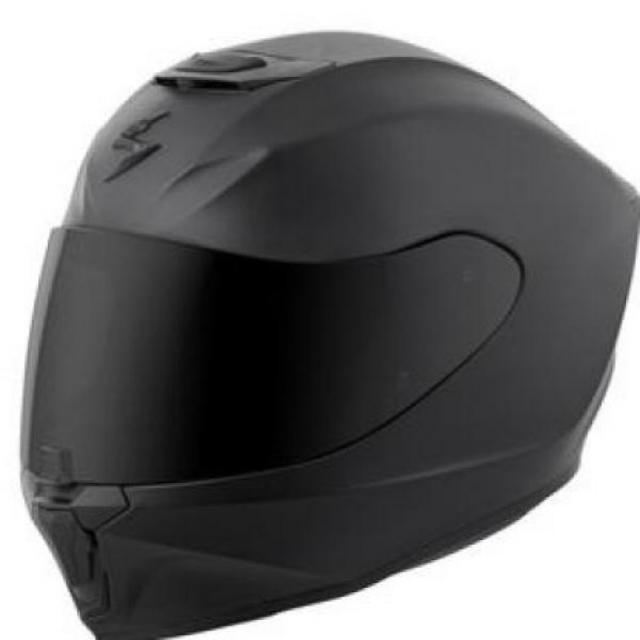Helmet: (36, 32, 640, 618)
